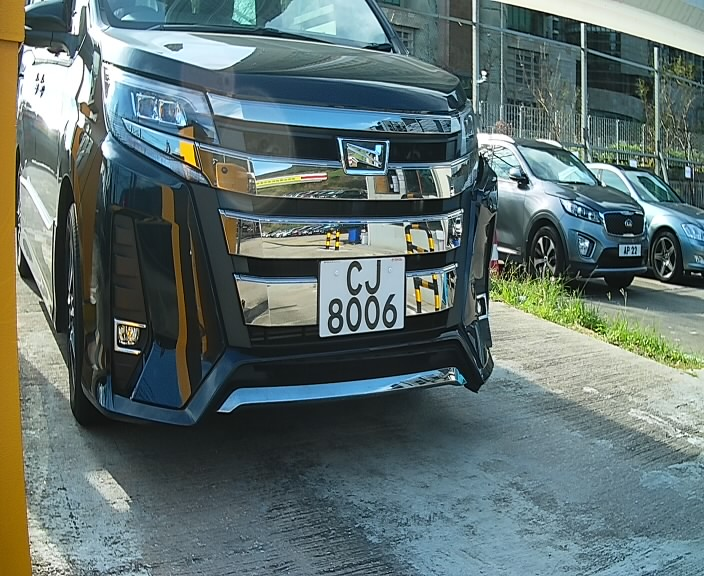Car: (2, 2, 517, 454)
License Plate: (304, 245, 421, 351)
